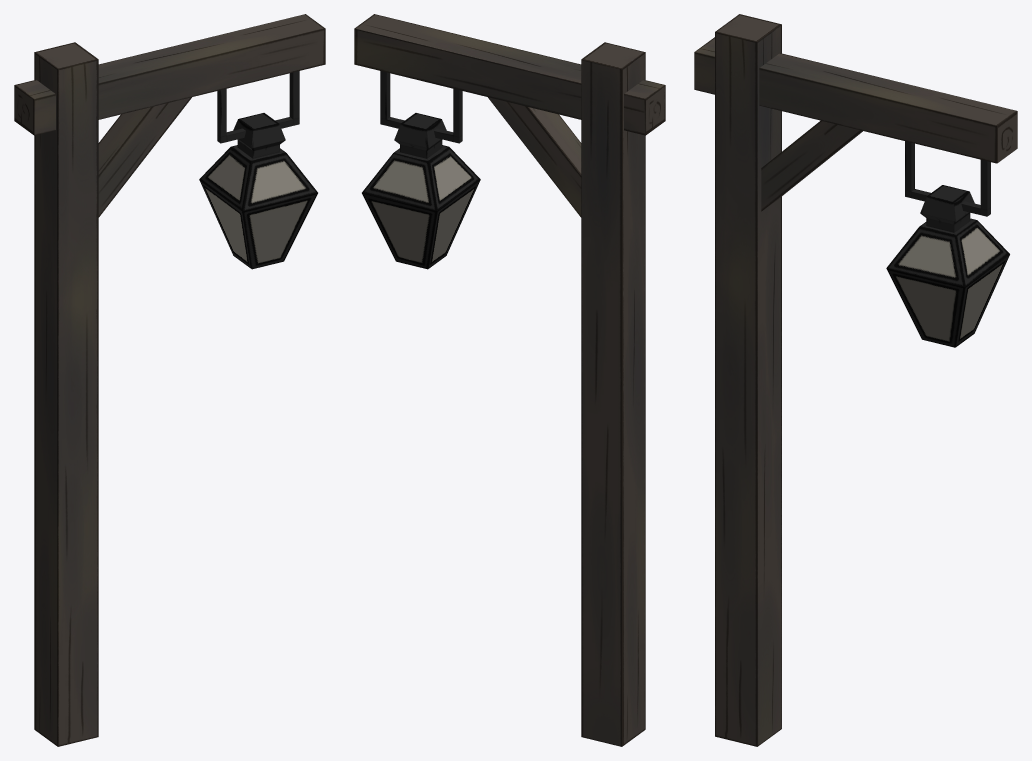
The model's file is Lamp.fbx.
The picture shows the model from 3 angles, left to right: view 1: azimuth 30°, elevation 25°; view 2: azimuth 150°, elevation 25°; view 3: azimuth 330°, elevation 25°; orthographic projection. The views are drawn at different scales.
Parts seen in each view (by area): view 1: Cube.015; view 2: Cube.015; view 3: Cube.015.
Boxes of the visible parts, x1=… form: Cube.015: x1=14, y1=14, x2=325, y2=746; Cube.015: x1=354, y1=14, x2=665, y2=746; Cube.015: x1=694, y1=14, x2=1017, y2=746.
Size of the model in its own units: 82.53 by 183 by 21.41.
